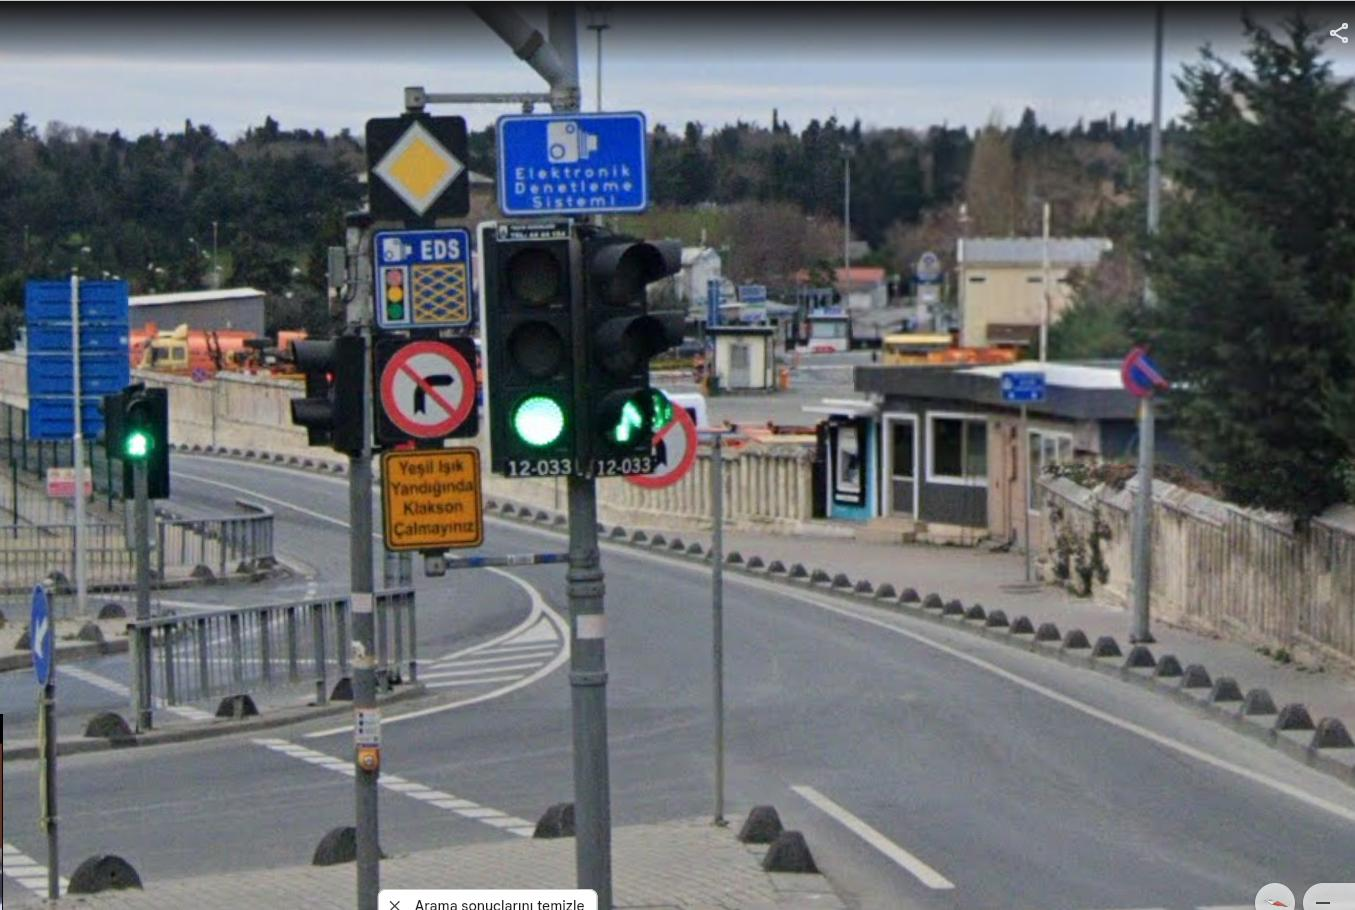greenlight: (476, 218, 582, 473), (578, 221, 666, 469), (121, 397, 164, 494)
rightturnsareforbidden: (389, 342, 472, 443)
